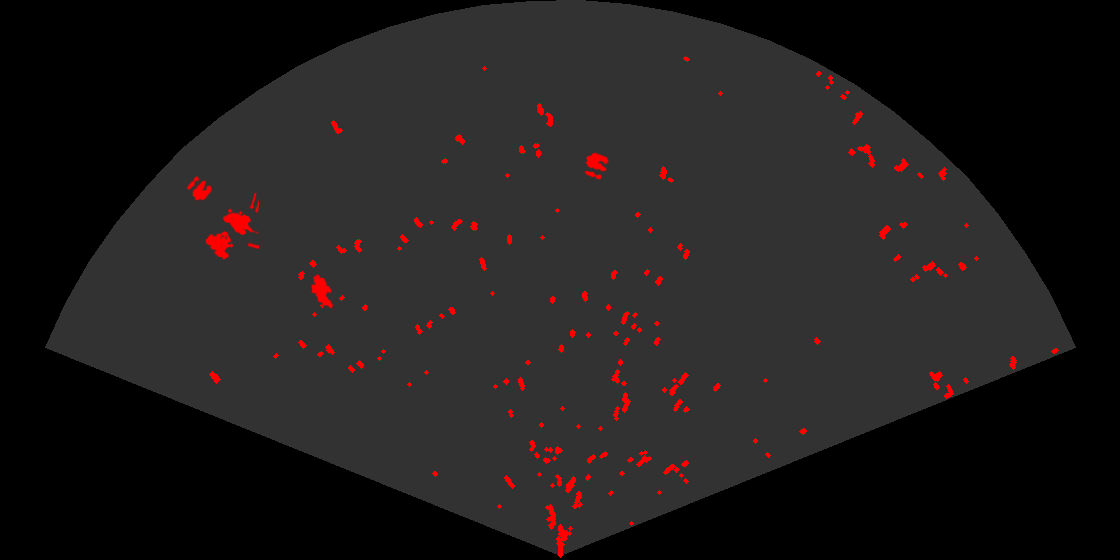AUV: (310, 273, 335, 310)
ball: (583, 151, 611, 181), (185, 175, 214, 202)
cage: (204, 193, 259, 262)
